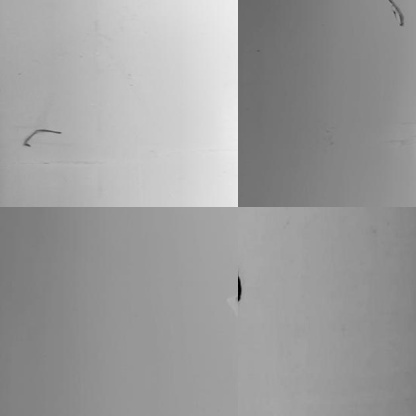fengxi: (21, 121, 75, 149), (235, 274, 249, 304)
